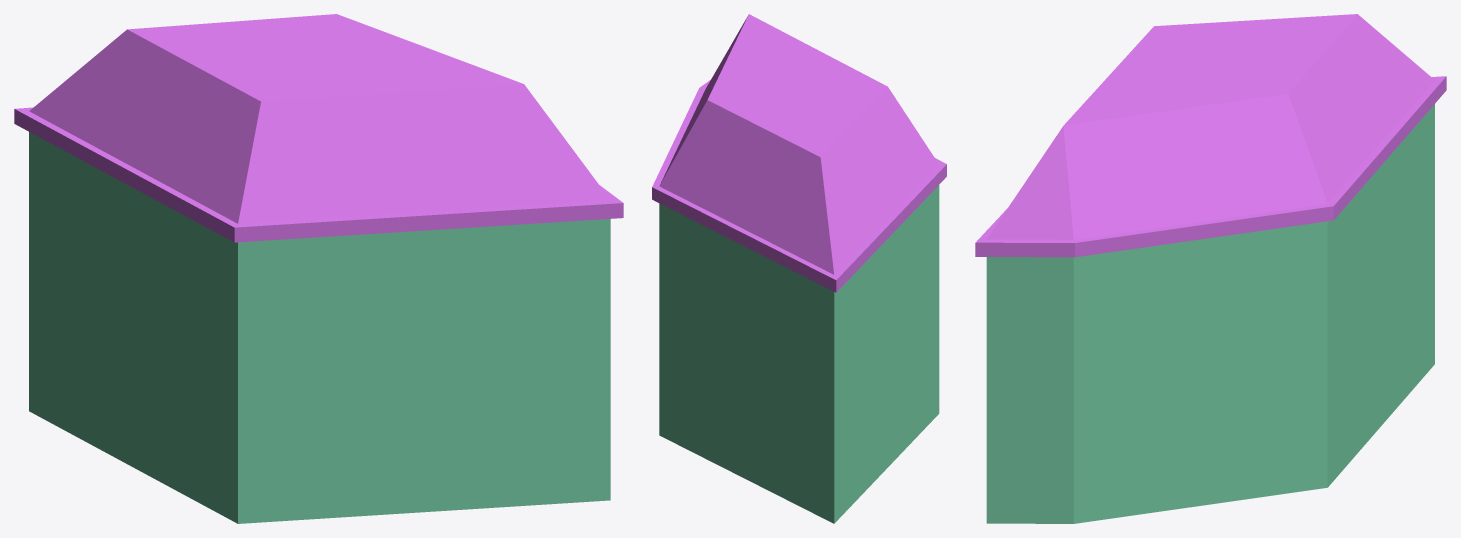
The model's file is Batiment17.fbx.
The picture shows the model from 3 angles, left to right: view 1: azimuth 30°, elevation 25°; view 2: azimuth 150°, elevation 25°; view 3: azimuth 270°, elevation 25°; orthographic projection. The views are drawn at different scales.
Visible parts, largest first — view 1: Batiment17; view 2: Batiment17; view 3: Batiment17.
Part boxes in pixels (x1,y1,x2,y2): Batiment17: (14, 14, 623, 523); Batiment17: (652, 14, 946, 523); Batiment17: (975, 14, 1446, 523).
Bounding box in the file's own units: 30.82 × 32.43 × 36.76.
